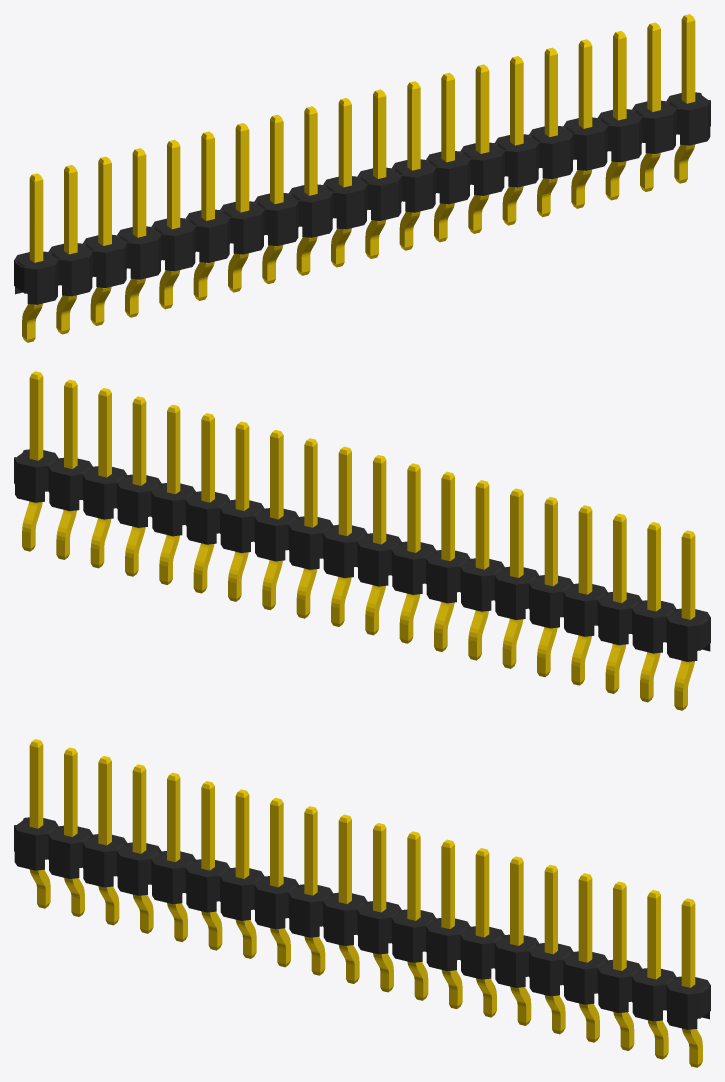
The model's file is DS1025 (PLS-20T CONNFLY).obj.
3 views of the same model, one above another, from view 1: azimuth 30°, elevation 25°; view 2: azimuth 150°, elevation 25°; view 3: azimuth 330°, elevation 25° (orthographic).
Visible parts, largest first — view 1: DS1025_(PLS-20T_CONNFLY); view 2: DS1025_(PLS-20T_CONNFLY); view 3: DS1025_(PLS-20T_CONNFLY).
Part boxes in pixels (x1,y1,x2,y2): DS1025_(PLS-20T_CONNFLY): (14, 14, 710, 342); DS1025_(PLS-20T_CONNFLY): (14, 371, 710, 710); DS1025_(PLS-20T_CONNFLY): (14, 739, 710, 1067).
Bounding box in the file's own units: 0.0184 × 0.00439 × 0.000922.
